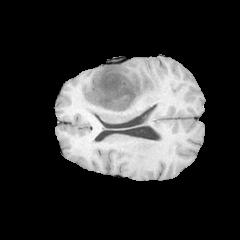glioma: (71, 60, 163, 124)
